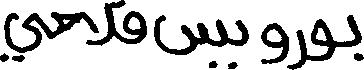X: (156, 10, 225, 69), (0, 8, 47, 66), (82, 0, 112, 50), (263, 18, 287, 69), (308, 14, 332, 65), (53, 7, 80, 42), (125, 0, 144, 48), (348, 10, 363, 65), (289, 25, 306, 69), (238, 15, 246, 50)
